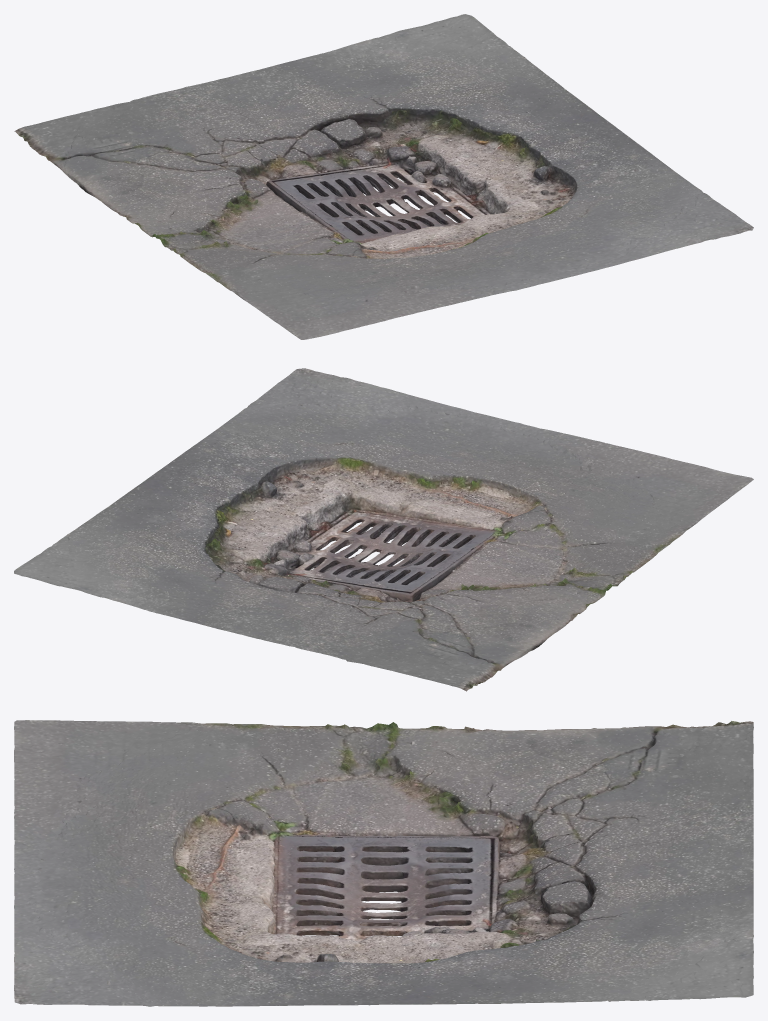
The model's file is sf-manhole-cover-on-broken-asphalt-road-76ee77.glb.
The picture shows the model from 3 angles, top to bottom: view 1: azimuth 30°, elevation 25°; view 2: azimuth 150°, elevation 25°; view 3: azimuth 270°, elevation 25°; orthographic projection. The views are drawn at different scales.
Parts seen in each view (by area): view 1: kanal_kanal_u1_v1_0; view 2: kanal_kanal_u1_v1_0; view 3: kanal_kanal_u1_v1_0.
Boxes of the visible parts, bbox=[...] form: kanal_kanal_u1_v1_0: bbox=[14, 14, 753, 339]; kanal_kanal_u1_v1_0: bbox=[14, 368, 753, 691]; kanal_kanal_u1_v1_0: bbox=[14, 720, 753, 1006].
Bounding box in the file's own units: 2.04 × 0.1655 × 2.24.
1 material, 1 textured.
